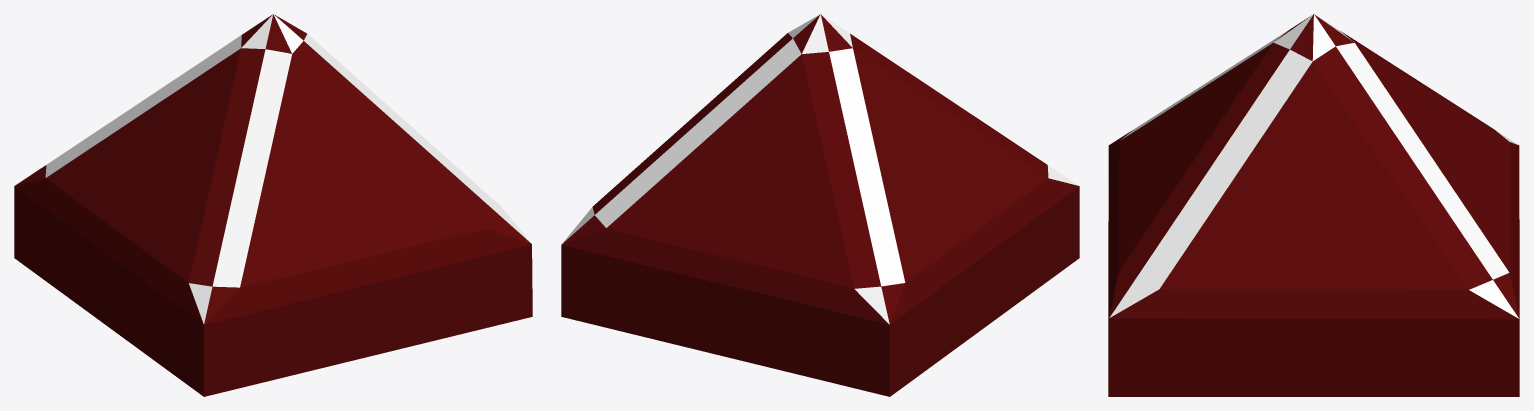
File: Spike_Export.FBX
The picture shows the model from 3 angles, left to right: view 1: azimuth 30°, elevation 25°; view 2: azimuth 150°, elevation 25°; view 3: azimuth 270°, elevation 25°; orthographic projection. The views are drawn at different scales.
Visible parts, largest first — view 1: Box005; view 2: Box005; view 3: Box005.
Part boxes in pixels (<box>): Box005: <box>14,14,532,396</box>; Box005: <box>561,14,1079,396</box>; Box005: <box>1108,14,1519,396</box>.
Size of the model in its own units: 20 by 15.9 by 20.
